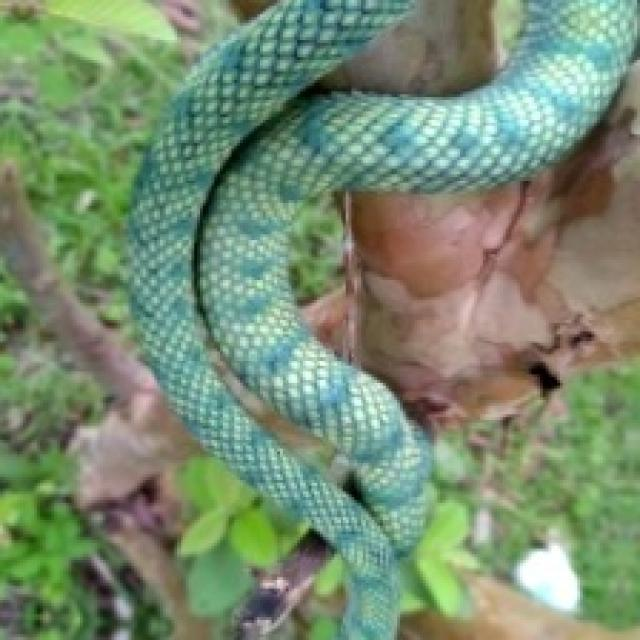north ph temple pitviper: (129, 0, 634, 637)
